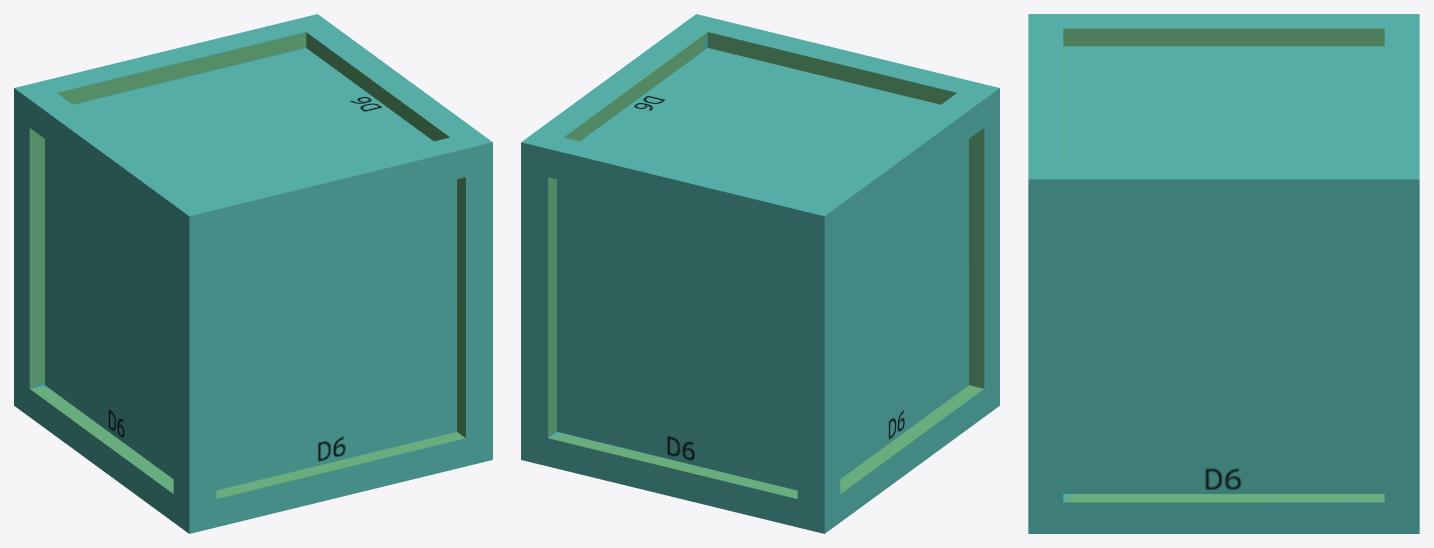
The model's file is D6Complex.obj.
3 views of the same model, side by side, from view 1: azimuth 30°, elevation 25°; view 2: azimuth 150°, elevation 25°; view 3: azimuth 270°, elevation 25° (orthographic). The views are drawn at different scales.
Parts seen in each view (by area): view 1: D6Complex; view 2: D6Complex; view 3: D6Complex.
Part boxes in pixels (bbox=[...]): D6Complex: bbox=[14, 14, 492, 533]; D6Complex: bbox=[521, 14, 999, 533]; D6Complex: bbox=[1028, 14, 1419, 533].
Bounding box in the file's own units: 2 × 2 × 2.
Materials: 1 (1 with a texture image).
